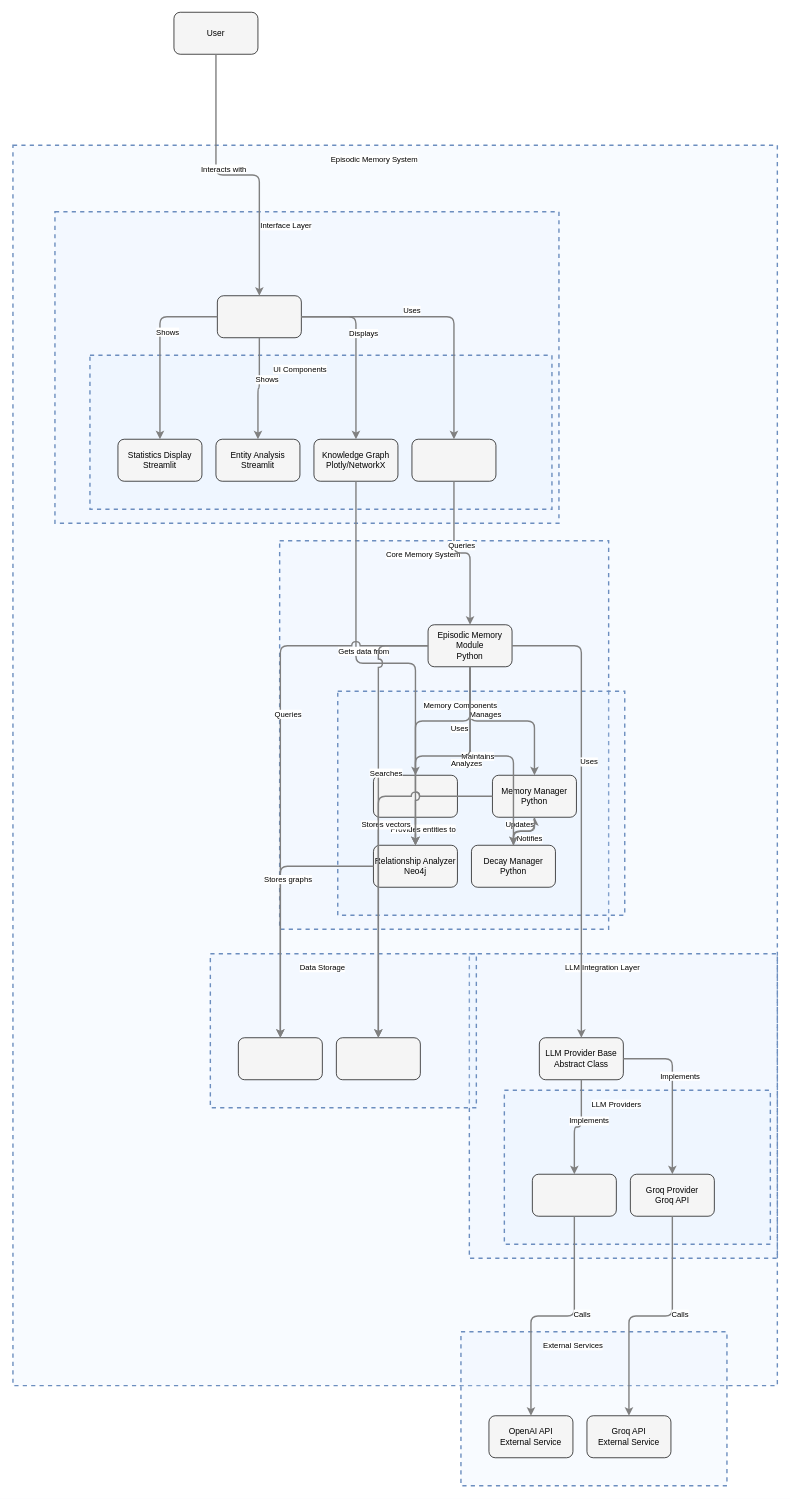
Some shapes in this 790 by 1499 pixel diagram are drawn without their labels. Each missing label, with the box of its shape:
Entity Extractor spaCy: (373, 775, 457, 817)
Graph Database Neo4j: (238, 1037, 322, 1080)
OpenAI Provider OpenAI API: (532, 1174, 616, 1216)
Search Component Streamlit: (411, 439, 496, 481)
Vector Store ChromaDB: (336, 1037, 420, 1080)
Web Interface Streamlit: (217, 295, 301, 338)
